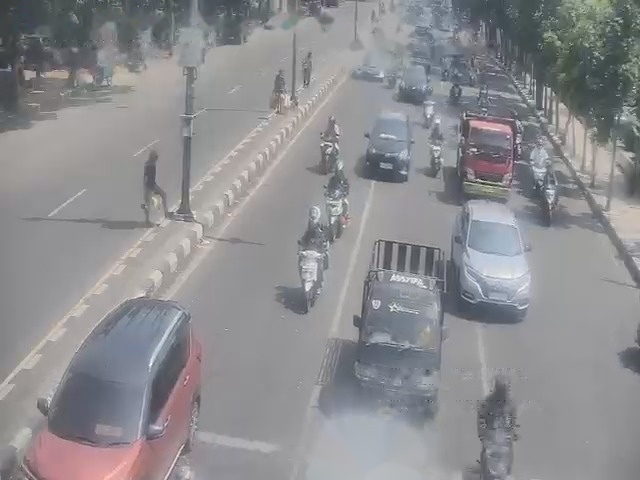Mobil: (47, 297, 196, 480), (353, 239, 447, 412), (459, 203, 529, 310), (364, 107, 408, 180)
Motor: (479, 428, 513, 479), (301, 247, 320, 309), (324, 188, 341, 239), (320, 133, 338, 174), (540, 183, 557, 225), (530, 159, 549, 195), (428, 139, 440, 177), (423, 100, 434, 128), (449, 85, 461, 104), (386, 70, 399, 87), (514, 132, 521, 158), (441, 68, 450, 81), (379, 2, 385, 14), (426, 83, 432, 95)
Truk: (455, 111, 515, 201)
